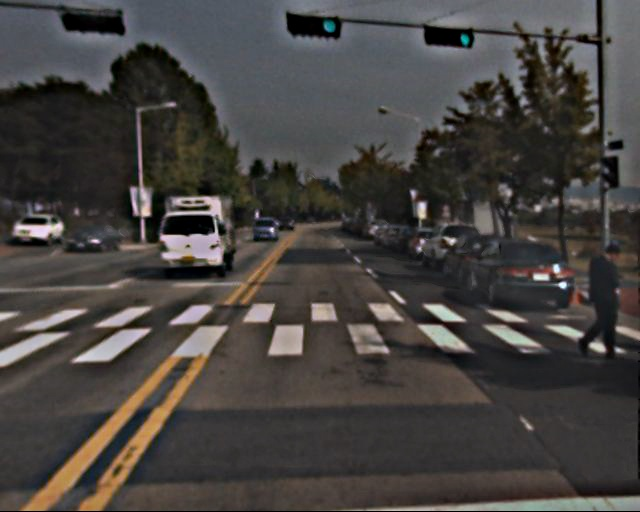person: (575, 241, 632, 368)
